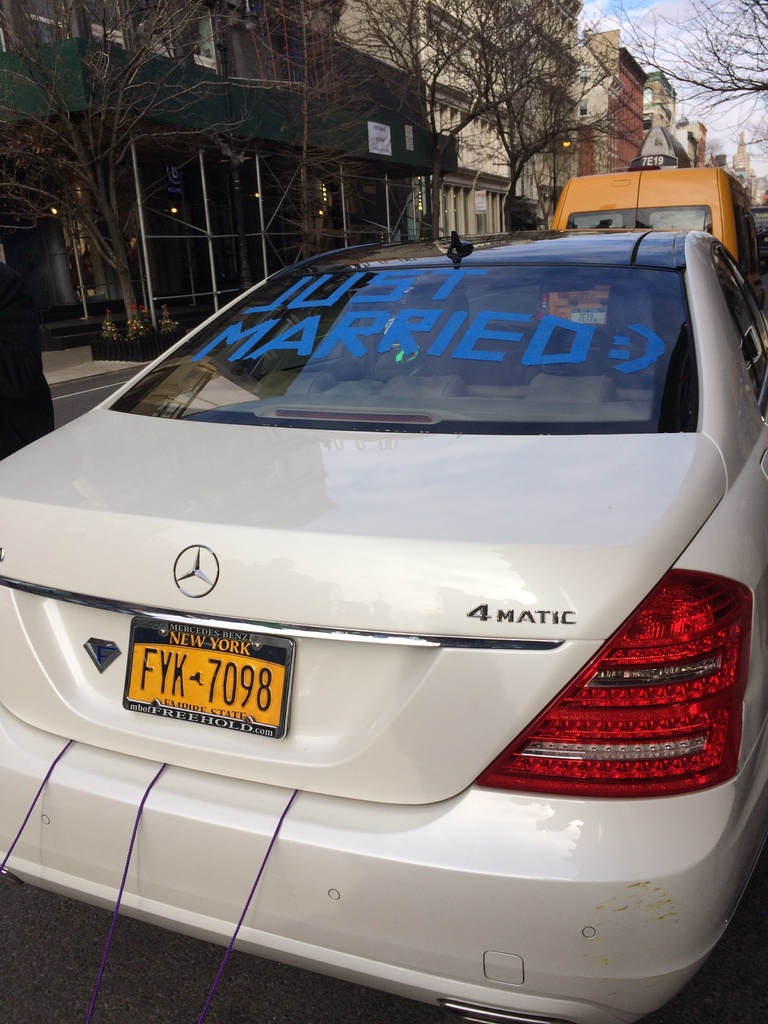Tree: (0, 0, 768, 339)
